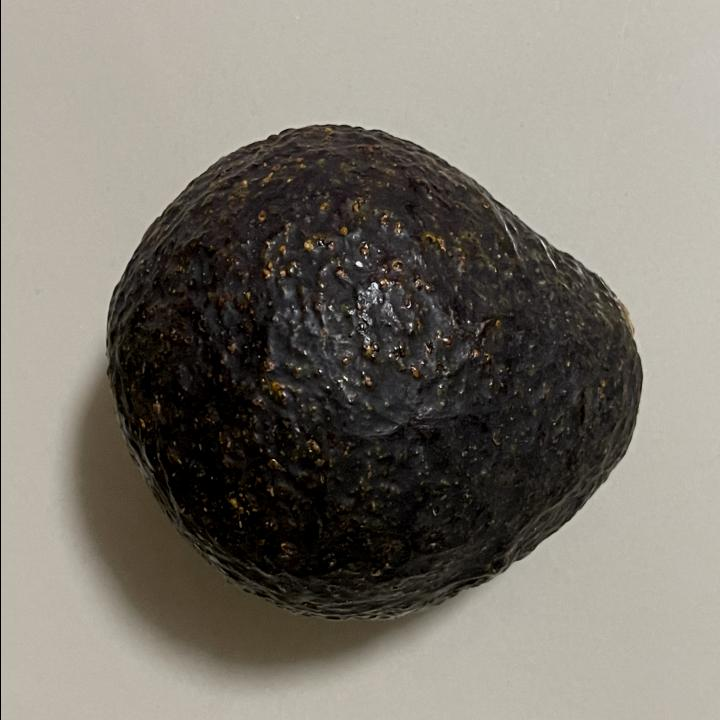Level2: (101, 116, 646, 632)
